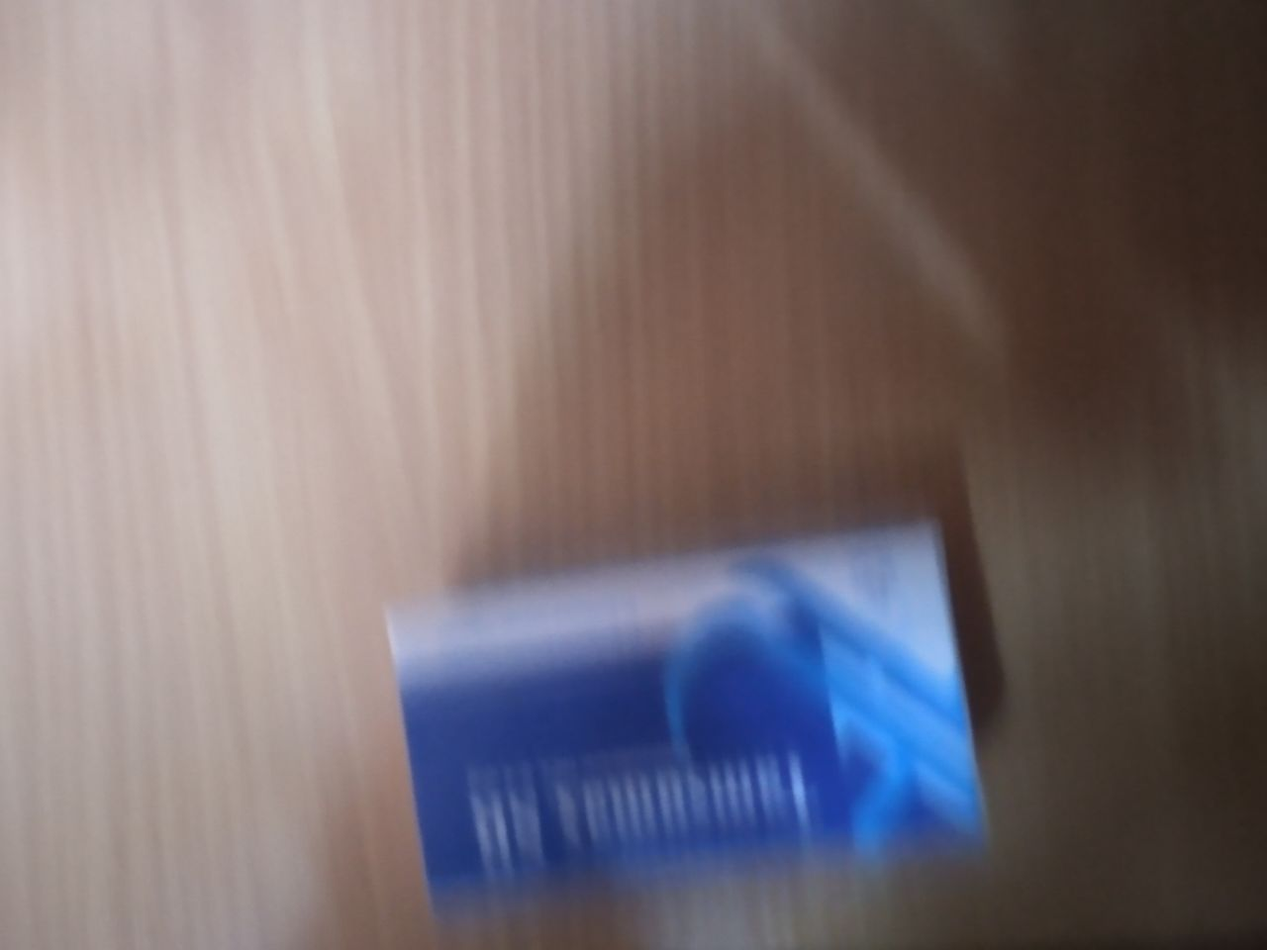Medicine: (371, 507, 1022, 918)
